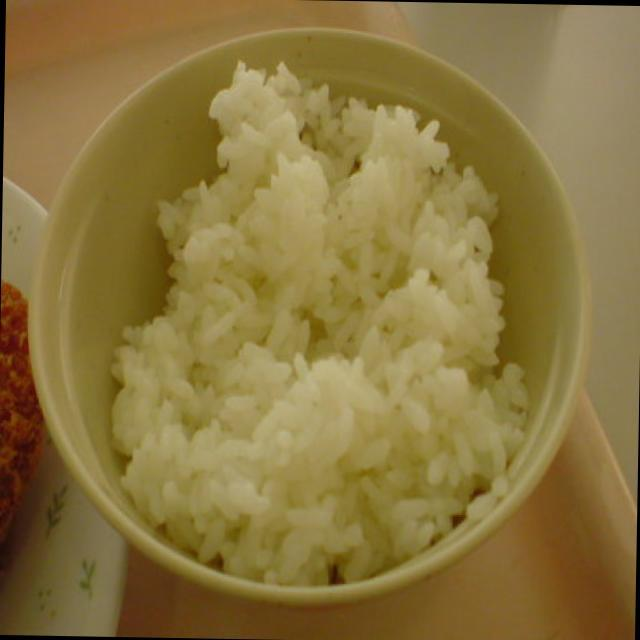Rice: (108, 56, 529, 572)
